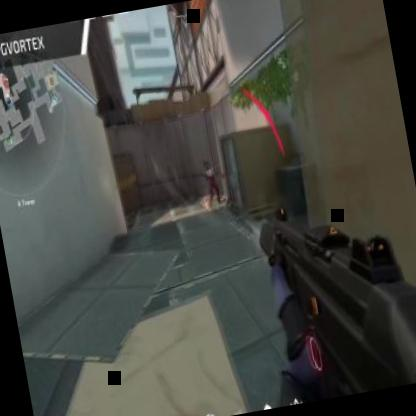enemy: (201, 158, 221, 206), (220, 159, 240, 203)
enemy_head: (223, 160, 232, 172), (202, 162, 210, 172)
